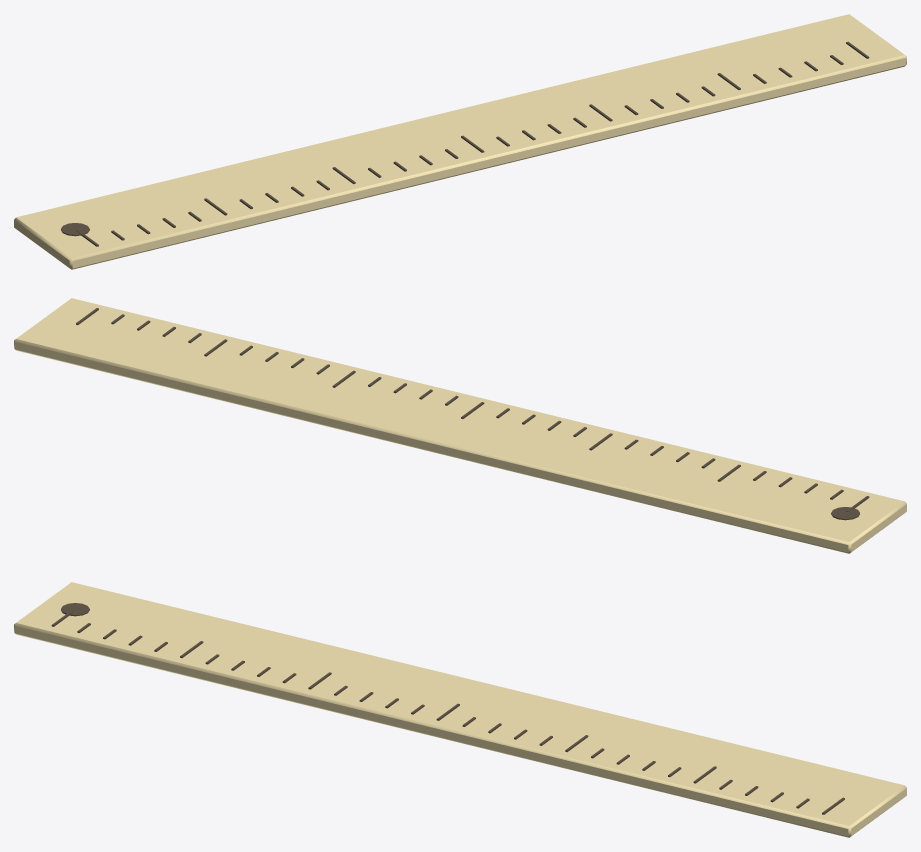
The model's file is ruler.glb.
3 views of the same model, one above another, from view 1: azimuth 30°, elevation 25°; view 2: azimuth 150°, elevation 25°; view 3: azimuth 330°, elevation 25° (orthographic).
Parts seen in each view (by area): view 1: ruler; view 2: ruler; view 3: ruler.
Part boxes in pixels (x1=…): ruler: x1=14, y1=14, x2=906, y2=269; ruler: x1=14, y1=298, x2=906, y2=553; ruler: x1=14, y1=582, x2=906, y2=837.
Bounding box in the file's own units: 0.3 × 0.0049 × 0.036.
